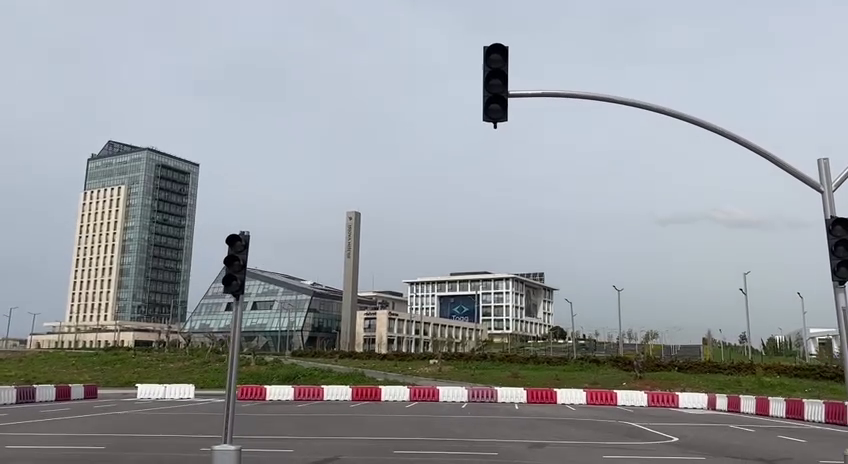trafficLight: (477, 39, 514, 131), (219, 228, 252, 303), (824, 214, 848, 288)
